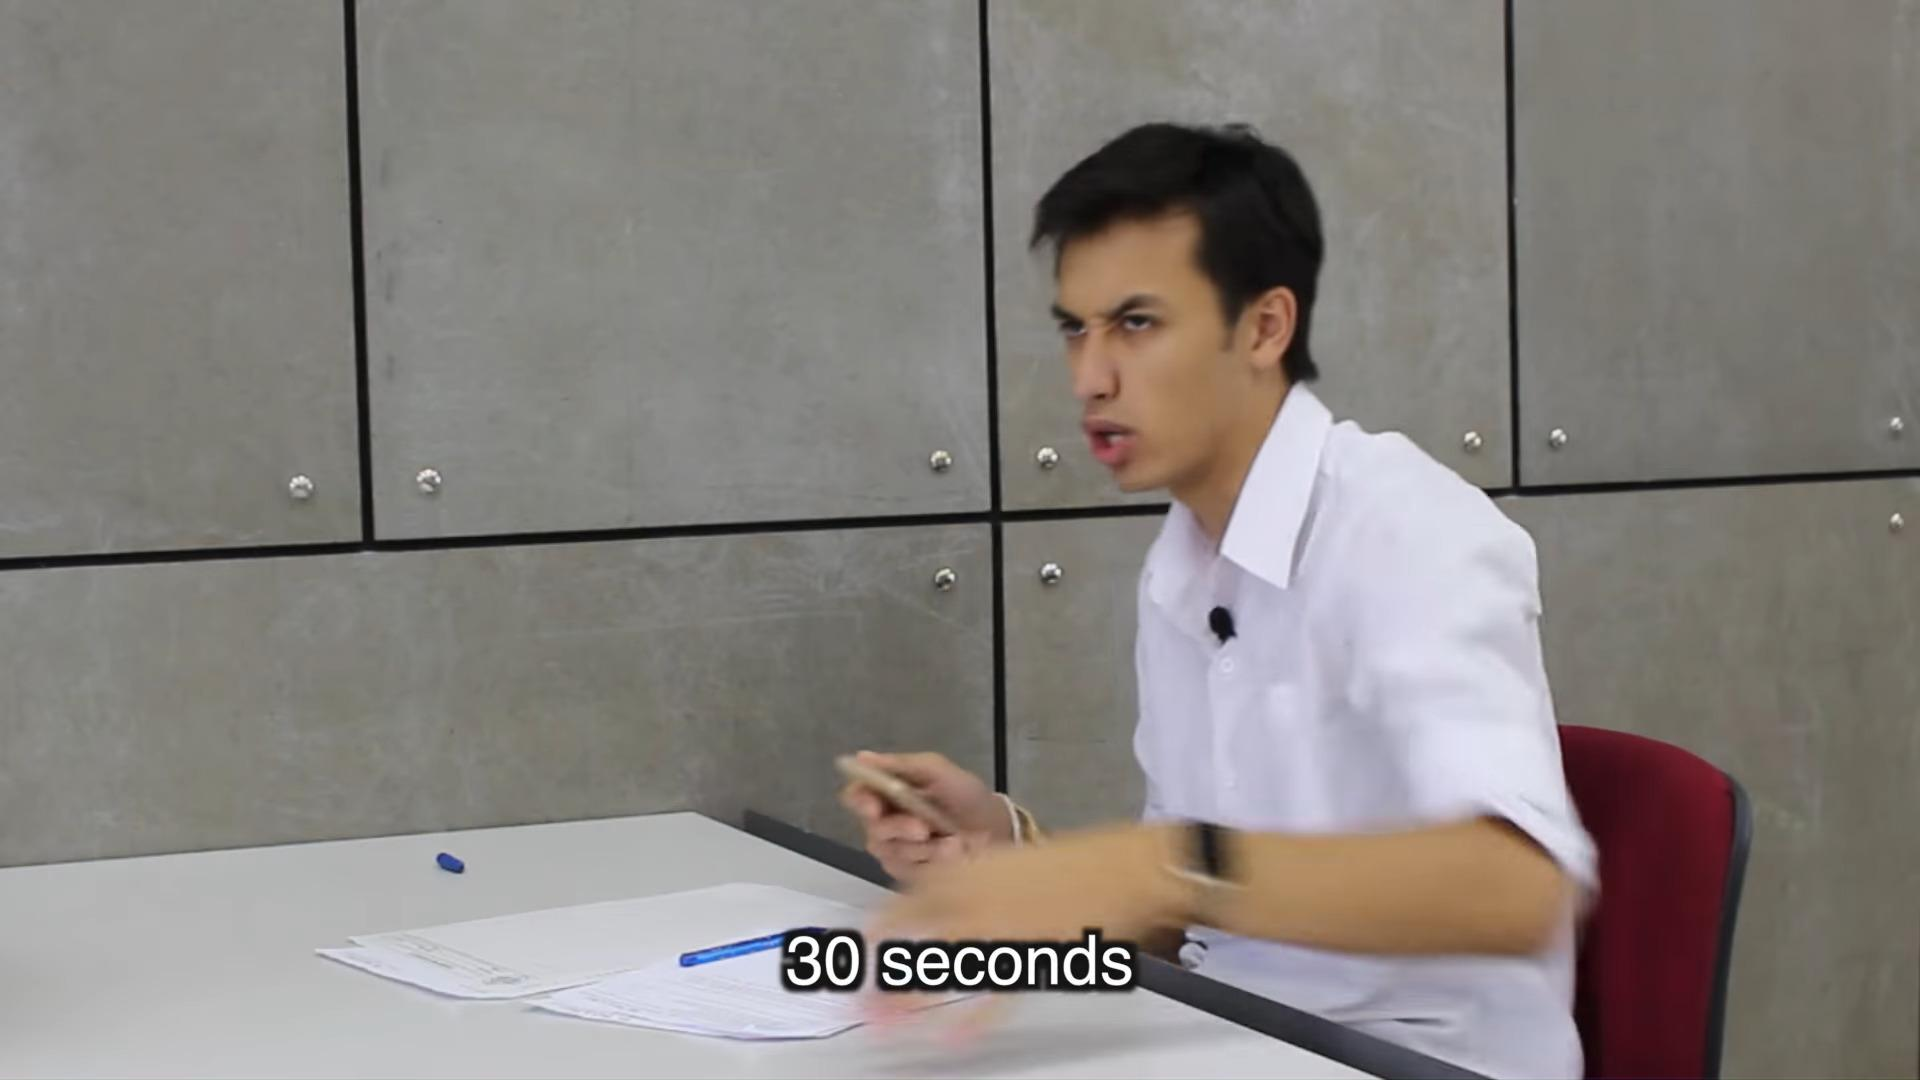cheating: (800, 66, 1621, 905)
